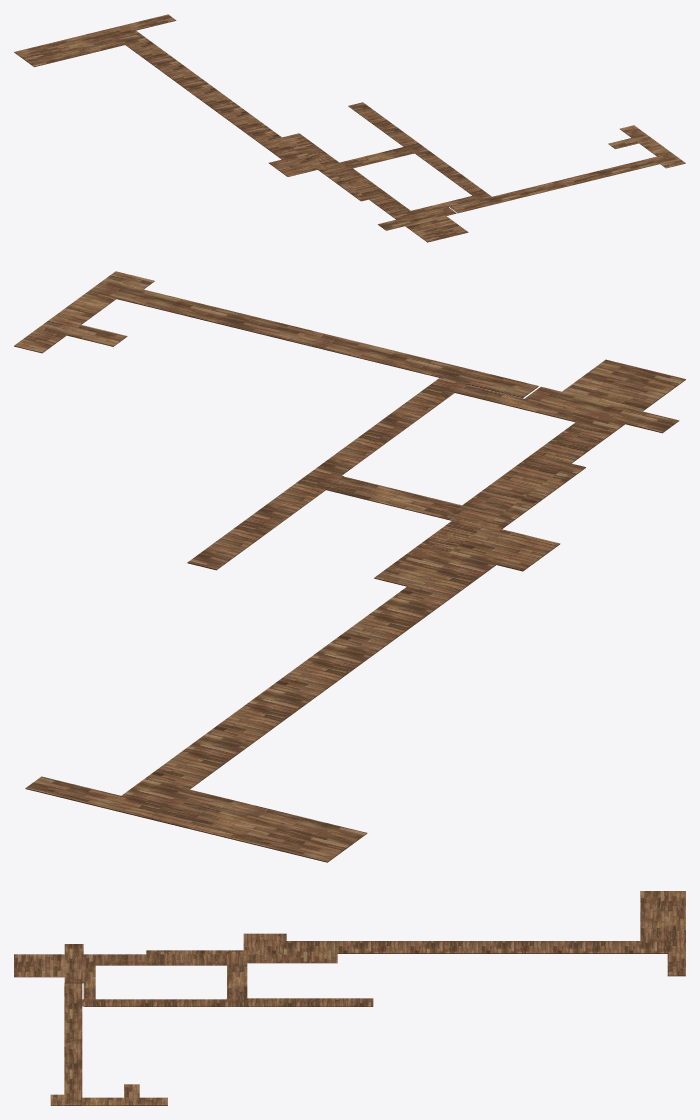
Rendered from ground.glb.
3 renders of one model, top to bottom at view 1: azimuth 30°, elevation 25°; view 2: azimuth 150°, elevation 25°; view 3: azimuth 270°, elevation 25°, orthographic. The views are drawn at different scales.
Parts seen in each view (by area): view 1: ground_corridor; view 2: ground_corridor; view 3: ground_corridor.
Boxes of the visible parts, x1=… form: ground_corridor: x1=14, y1=14, x2=685, y2=242; ground_corridor: x1=14, y1=271, x2=685, y2=862; ground_corridor: x1=14, y1=891, x2=685, y2=1105.
Bounding box in the file's own units: 191 × 0.2017 × 253.
1 material, 1 textured.
